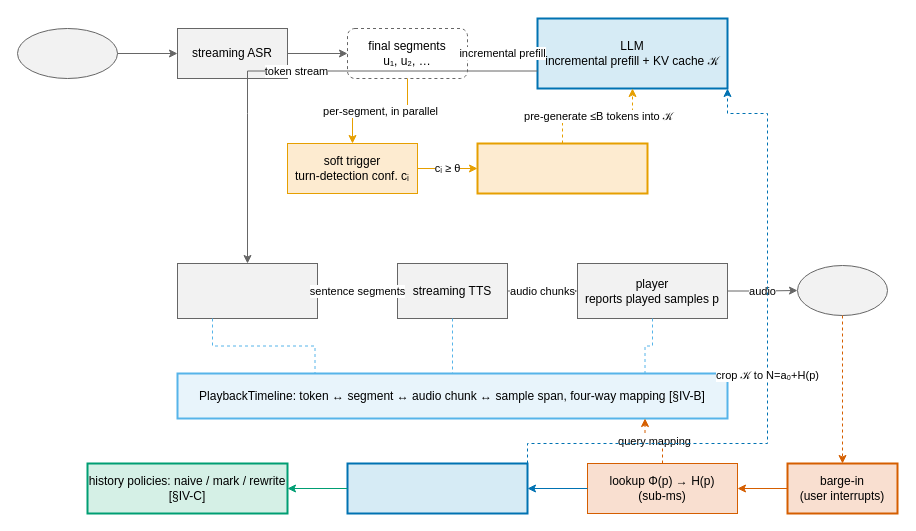
This 916x531 diagram has some shape labels left out. Each missing label, with the centre of its shape:
KV truncation + role rebuild [§IV-B]: the point at 437,488
sentence chunker token→segment spans: the point at 247,290
speculative generation (abortable) [§IV-A]: the point at 562,168
user: the point at 842,290
user speech: the point at 67,53
